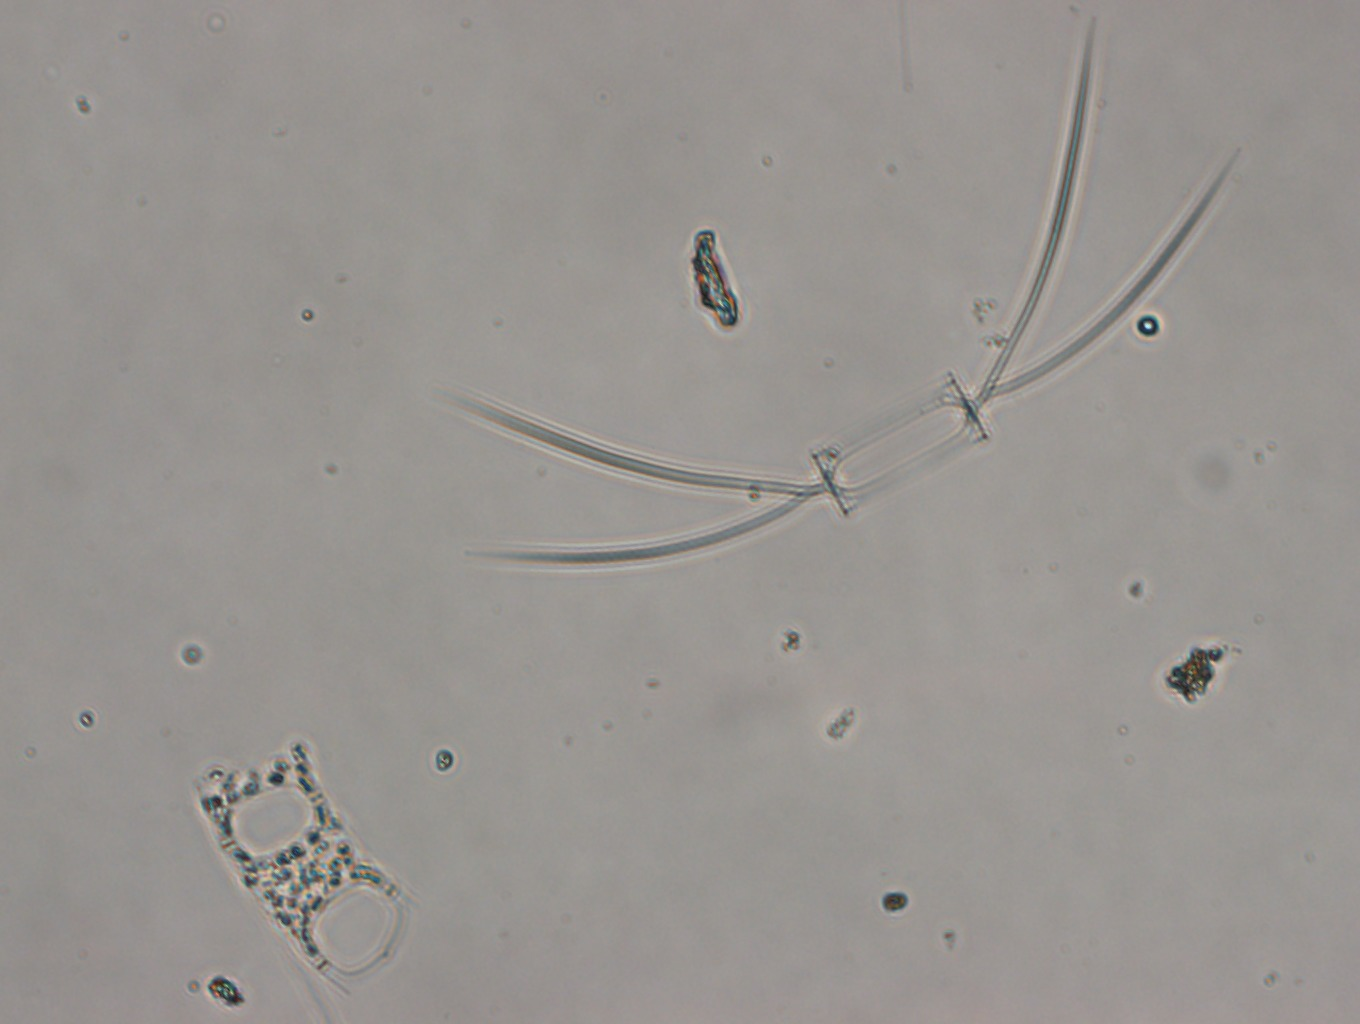chaetoceros: (428, 12, 1237, 566)
eucampia: (187, 735, 424, 999)
